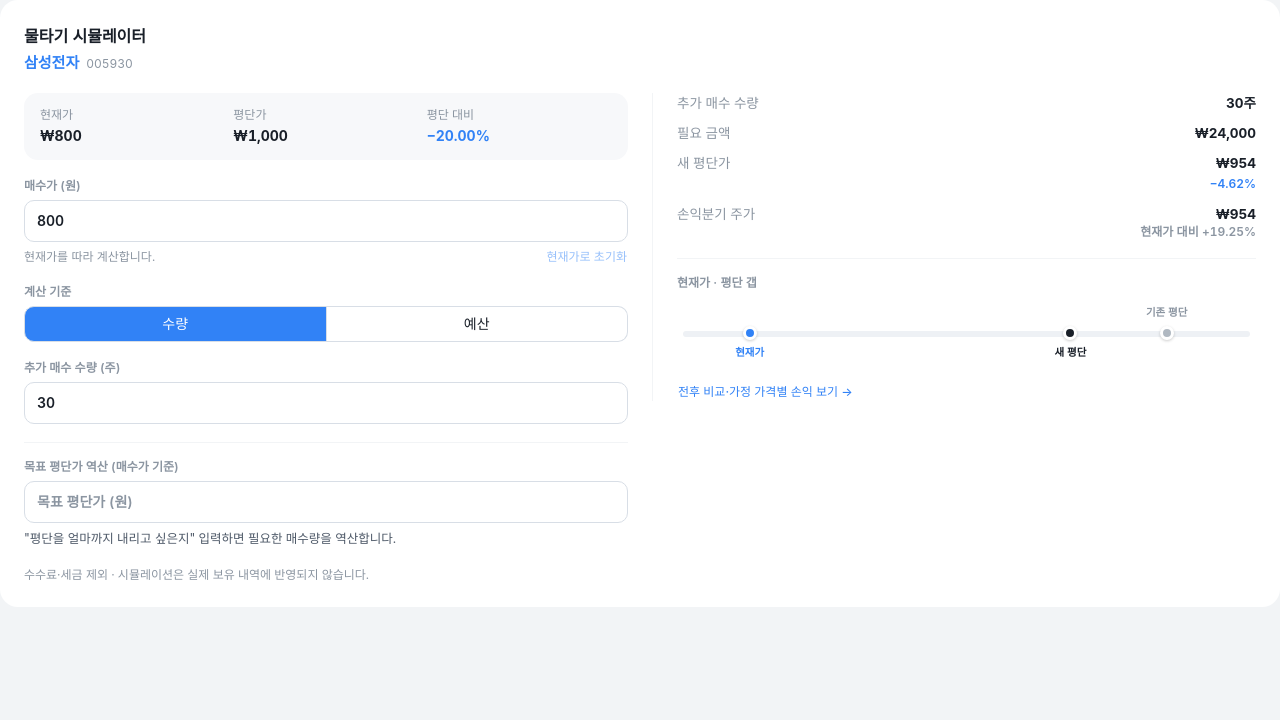
Test case: AveragingPanel › 예산과 가정 매수가를 반영하고 현재가로 초기화한다
Click the radio button labelled "예산" at (477, 324), box [326, 306, 628, 342]
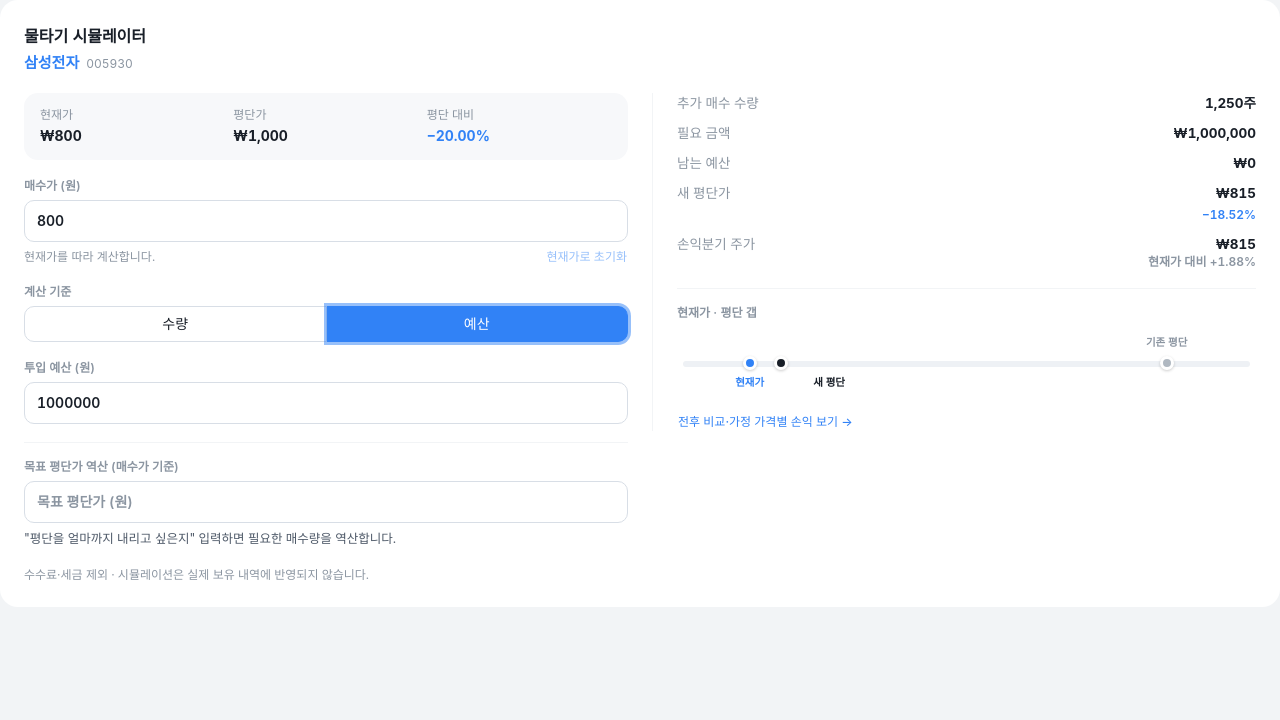
Replace the text in the number field labelled "투입 예산 (원)" with "10000" at (326, 402), box [24, 382, 628, 424]
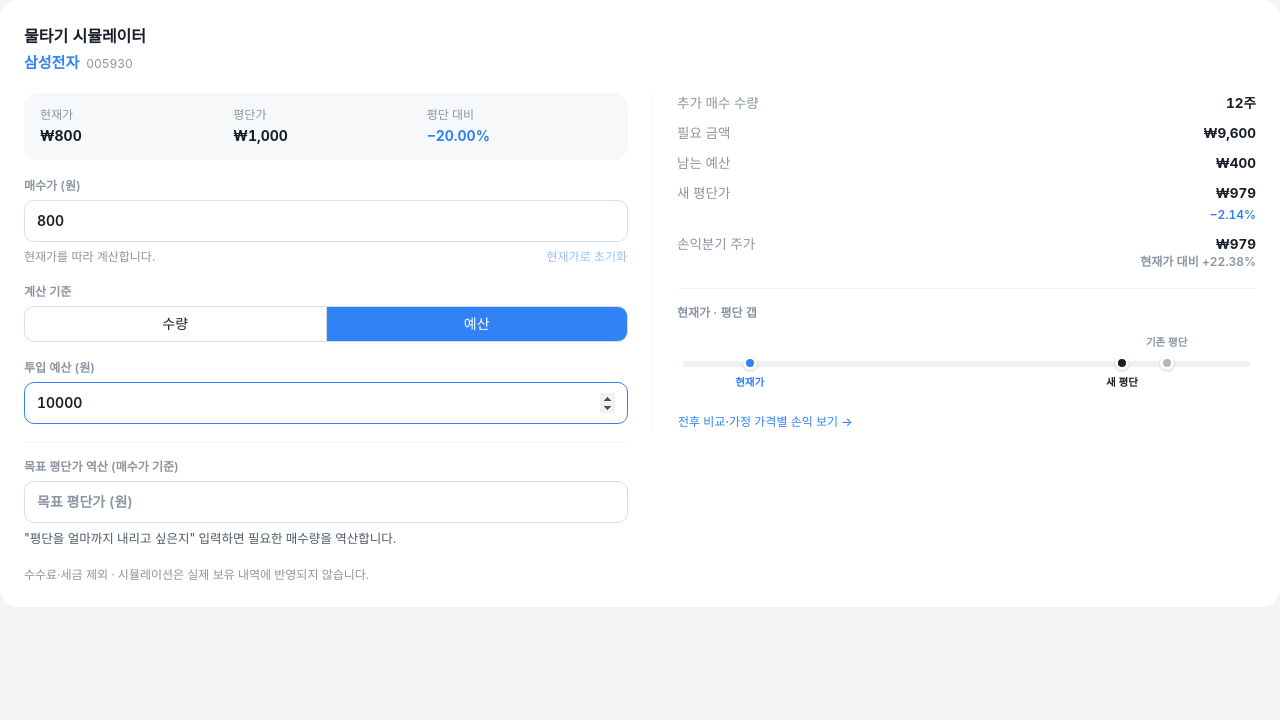
Result: the text "12주" is shown at [1226, 92, 1256, 113]
Result: the text "₩400" is shown at [1216, 155, 1256, 171]
Replace the text in the number field labelled "매수가 (원)" with "600" at (326, 220), box [24, 200, 628, 242]
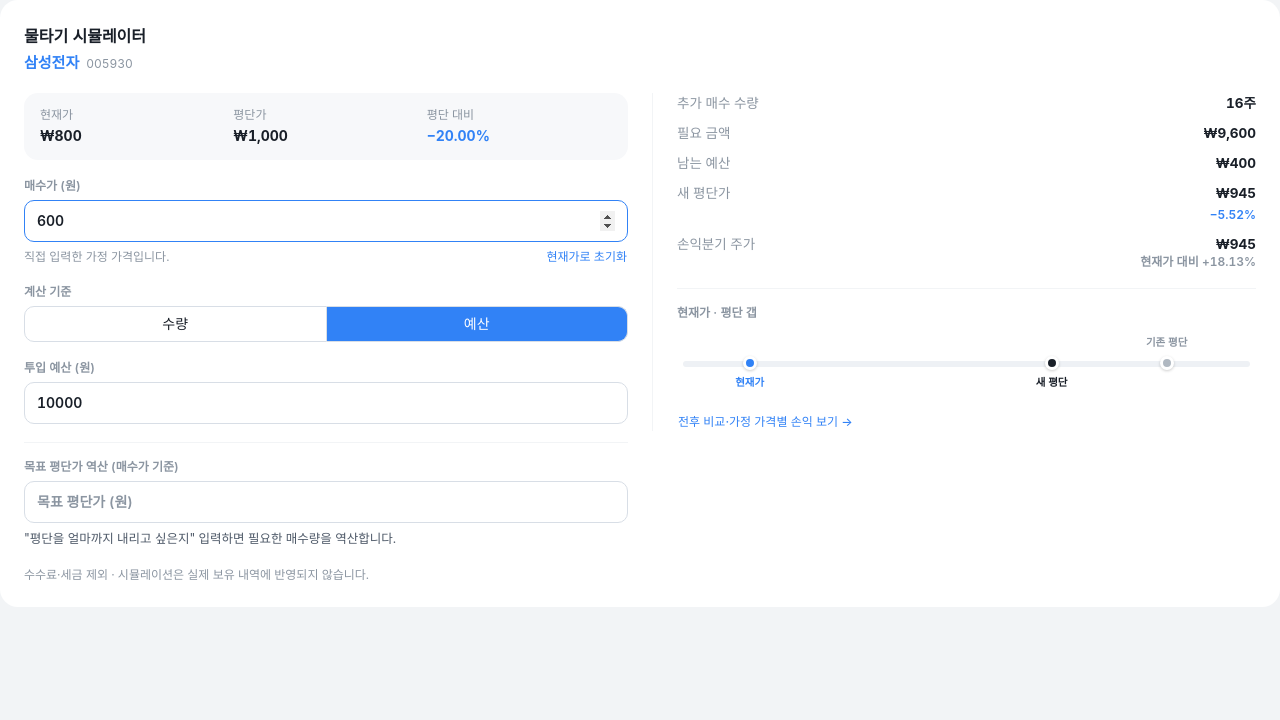
Result: the text "직접 입력한 가정 가격입니다." is shown at [24, 248, 169, 264]
Result: the text "16주" is shown at [1226, 92, 1256, 113]
Click the button "현재가로 초기화" at (587, 256), box [546, 248, 628, 266]
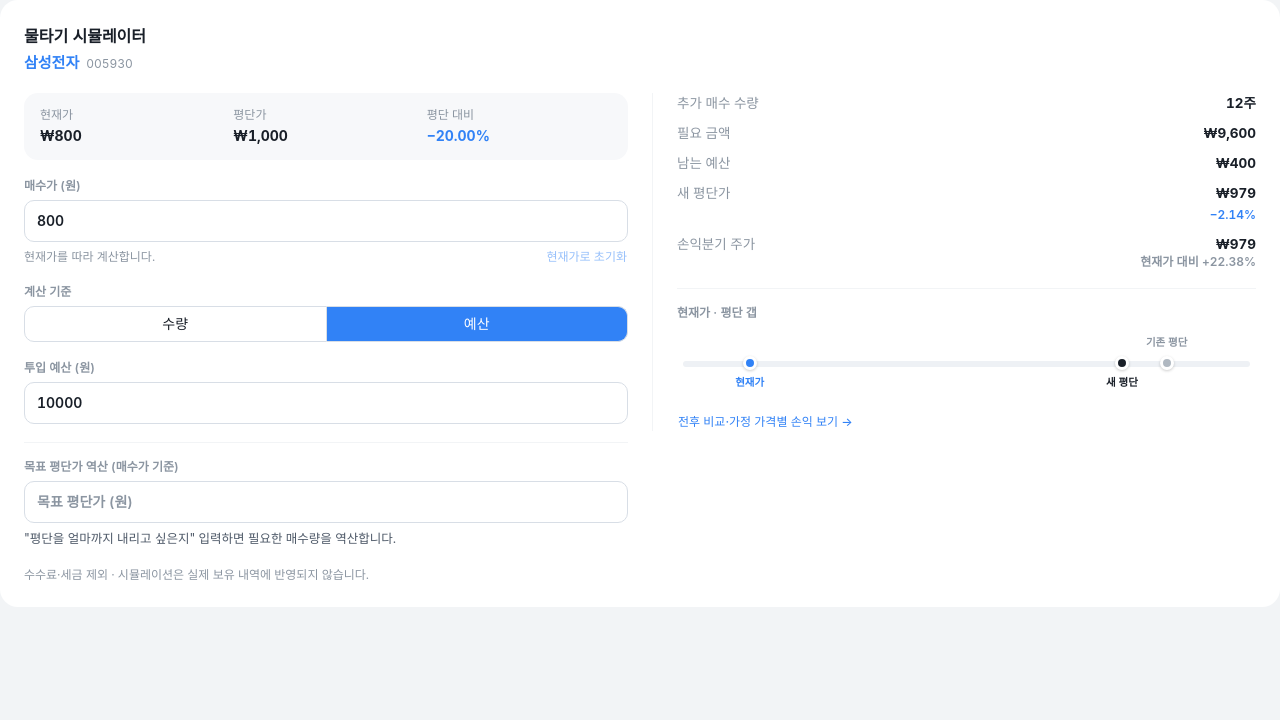
Result: the number field labelled "매수가 (원)" holds "800" at [24, 200, 628, 242]
